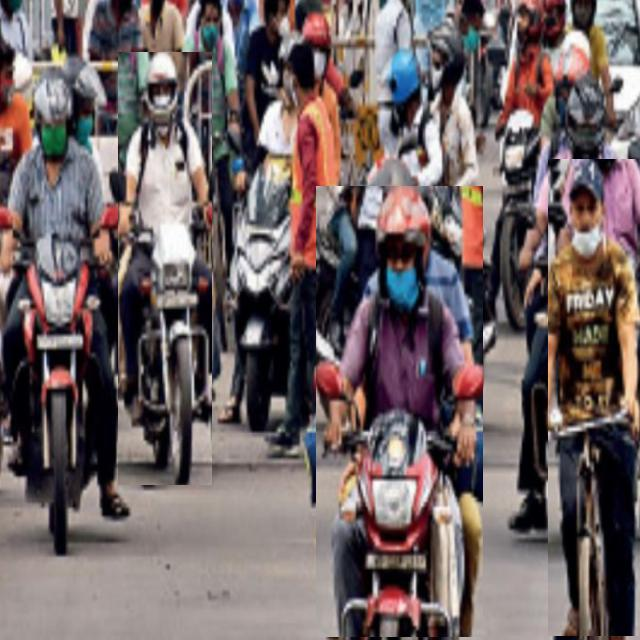bicycle: (548, 160, 640, 636)
motorcycle: (316, 186, 482, 637), (1, 71, 130, 553), (118, 53, 212, 485)
